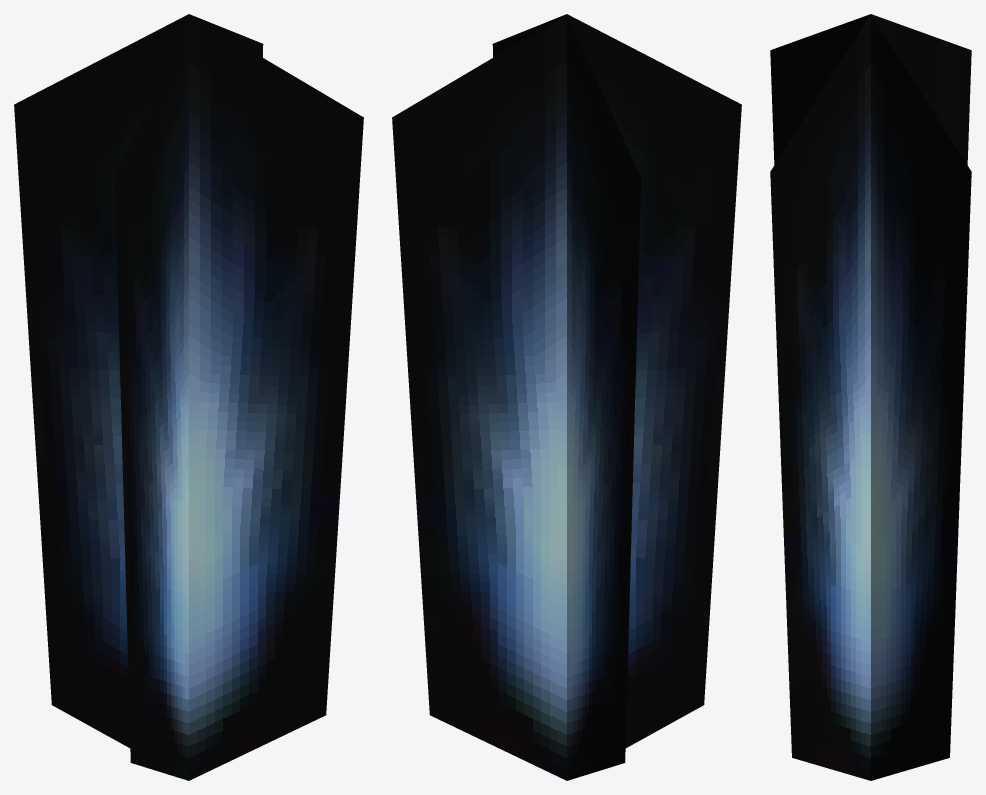
The model's file is RidingSpear01.glb.
3 renders of one model, left to right at view 1: azimuth 30°, elevation 25°; view 2: azimuth 150°, elevation 25°; view 3: azimuth 270°, elevation 25°, orthographic.
Parts seen in each view (by area): view 1: model_RidingSpear01; view 2: model_RidingSpear01; view 3: model_RidingSpear01.
Boxes of the visible parts, box(x1,y1,x2,y2) form: model_RidingSpear01: box(14, 14, 363, 780); model_RidingSpear01: box(392, 14, 741, 780); model_RidingSpear01: box(770, 14, 971, 780).
Bounding box in the file's own units: 0.4207 × 1.24 × 0.2946.
1 material, 1 textured.
